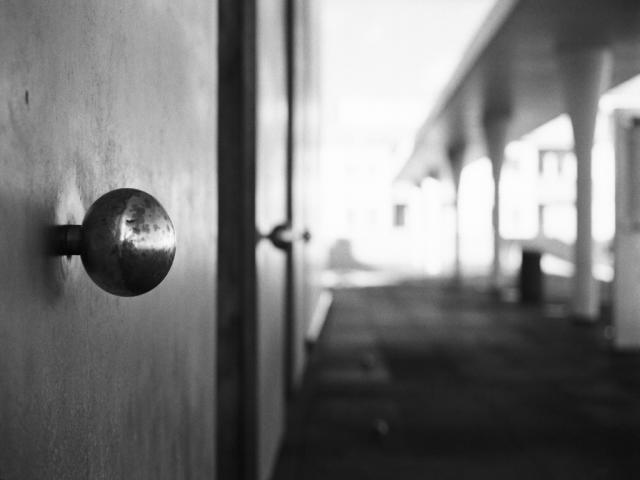Door-handle: (66, 186, 176, 300)
